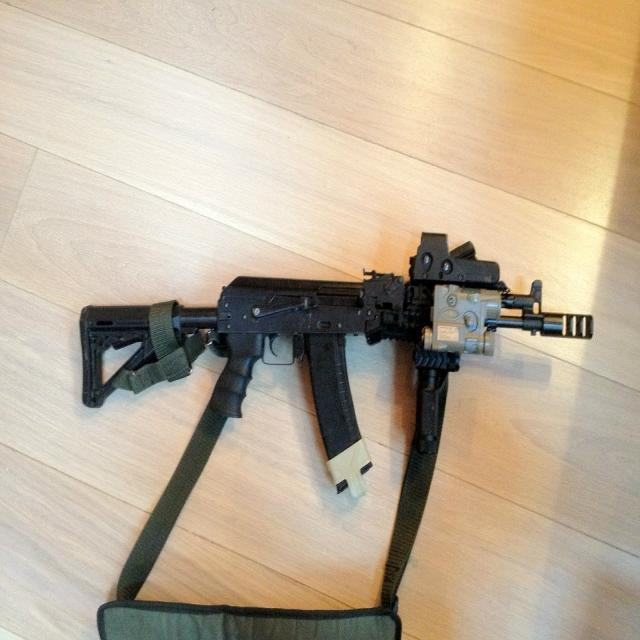firearm: (81, 231, 596, 500)
